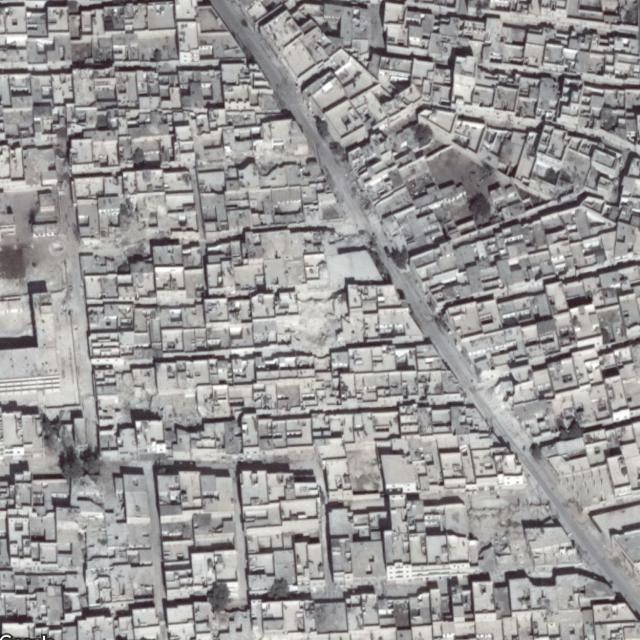damaged_building: (86, 198, 149, 259), (290, 285, 342, 356)
